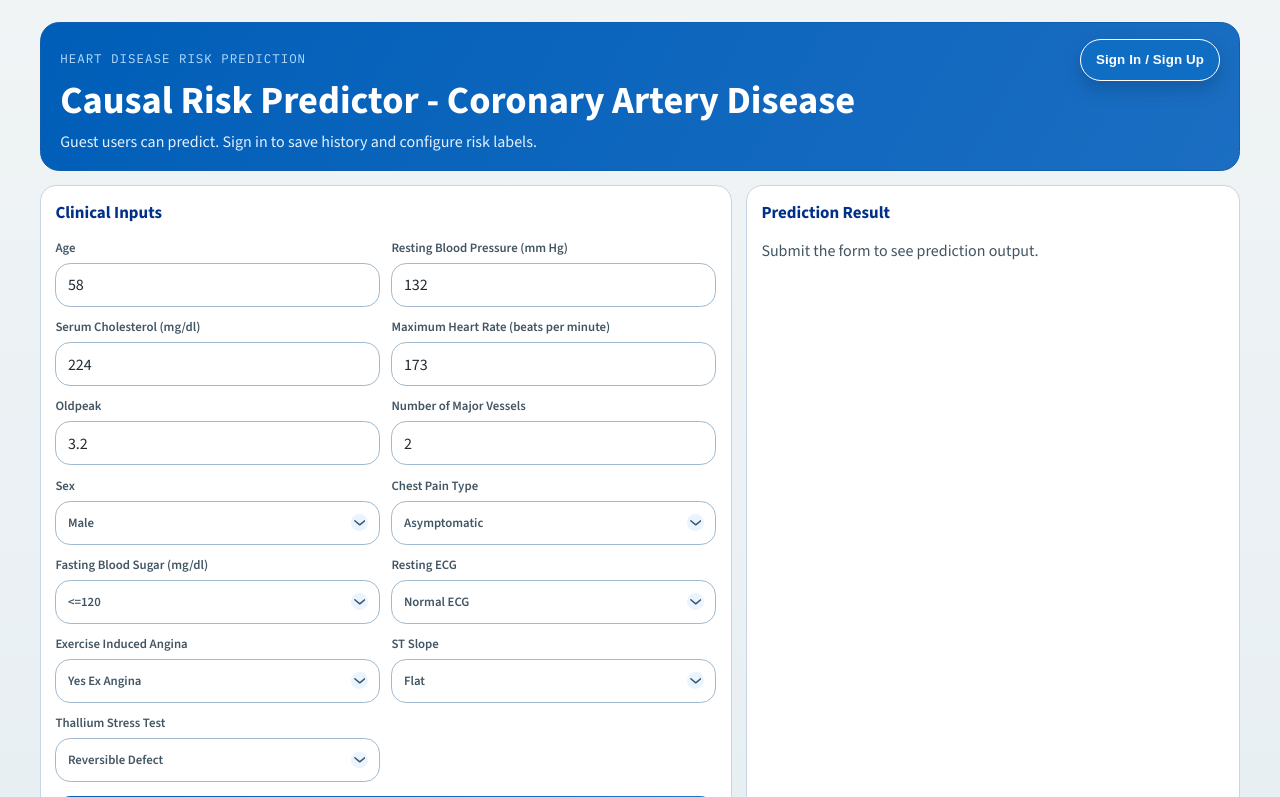
Test: app has no obvious accessibility violations in the auth panel
Click the button "Sign In / Sign Up": (1150, 60) top-left (1080, 39), bottom-right (1220, 81)
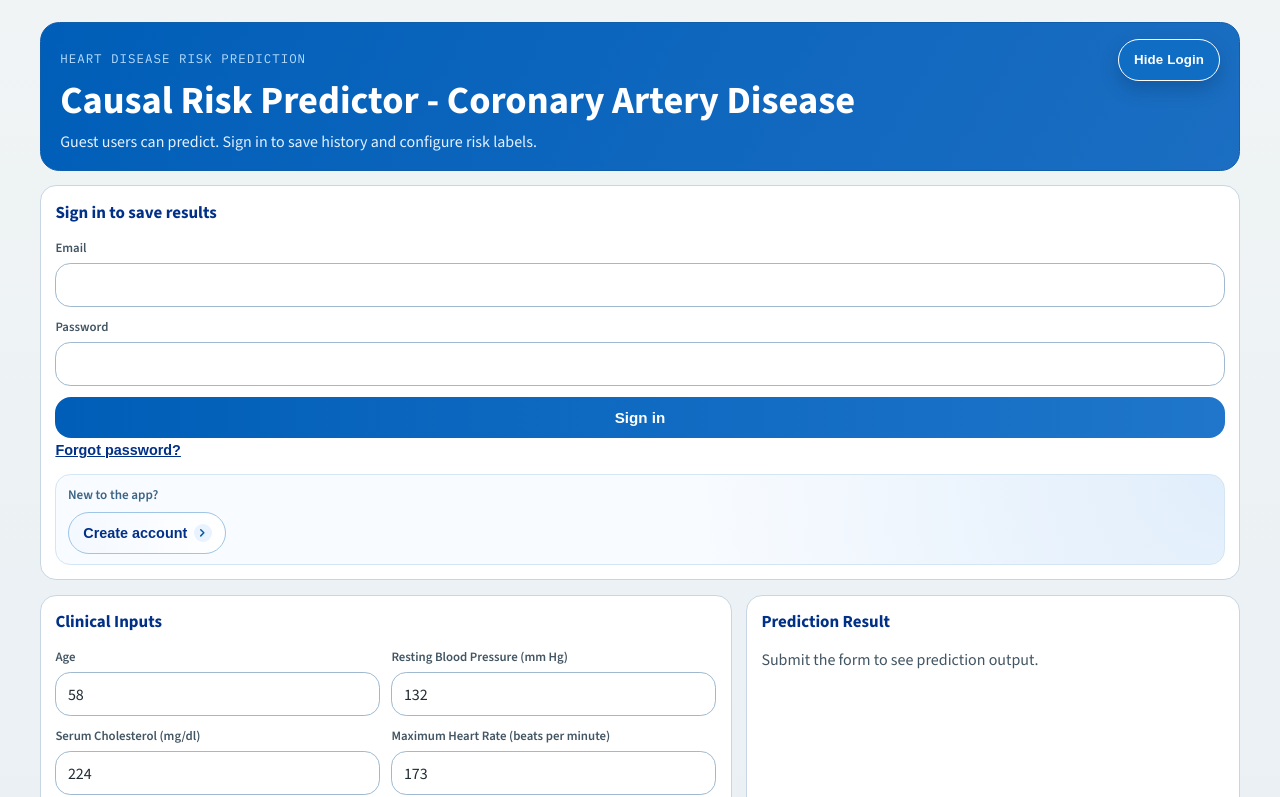
Expected: the text "New to the app?" is shown, top-left (68, 486), bottom-right (158, 503)
